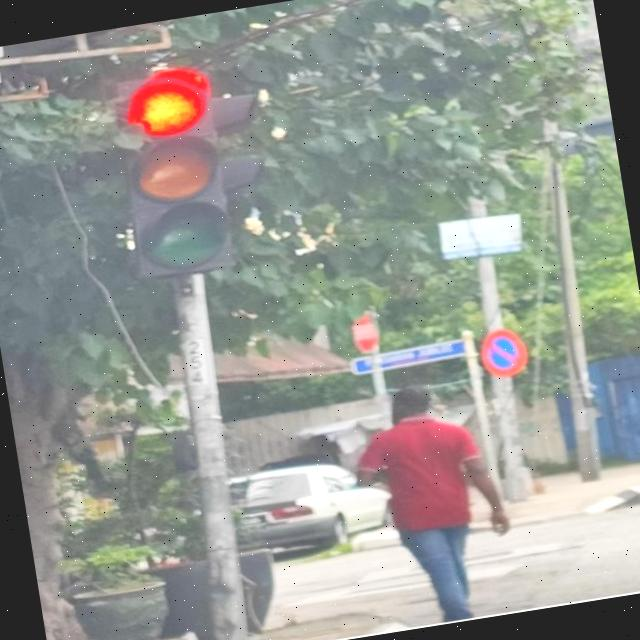red_light: (110, 64, 240, 282)
